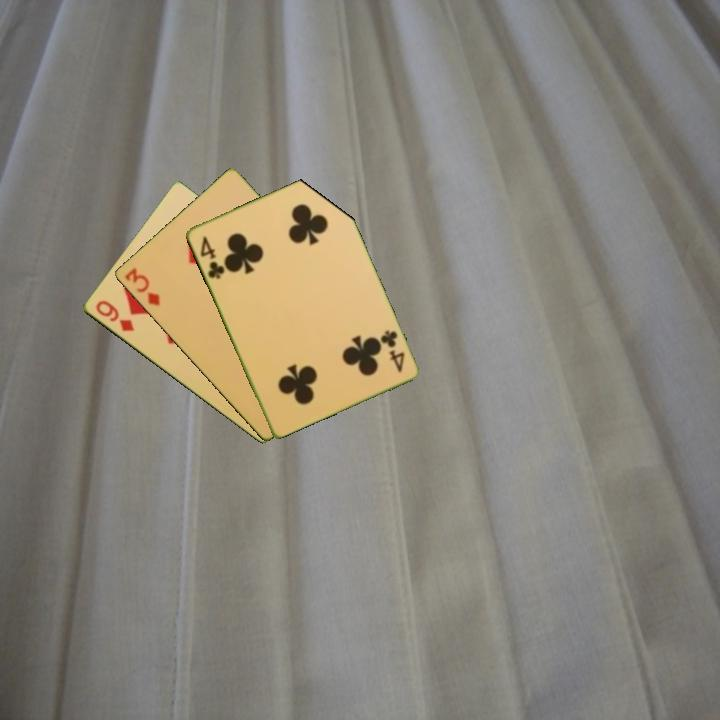3d: (121, 263, 163, 309)
4c: (196, 232, 227, 282), (376, 326, 407, 376)
9d: (92, 297, 137, 335)
